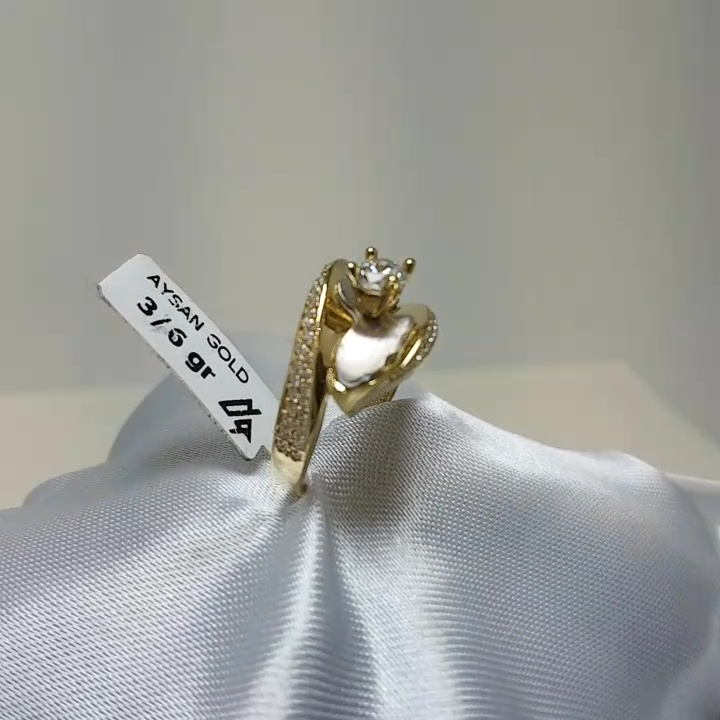Ring 6: (248, 242, 463, 480)
